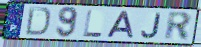9: (54, 5, 79, 40)
A: (105, 10, 136, 40)
D: (24, 6, 52, 38)
J: (139, 11, 162, 39)
L: (82, 9, 104, 38)
R: (163, 11, 193, 42)
